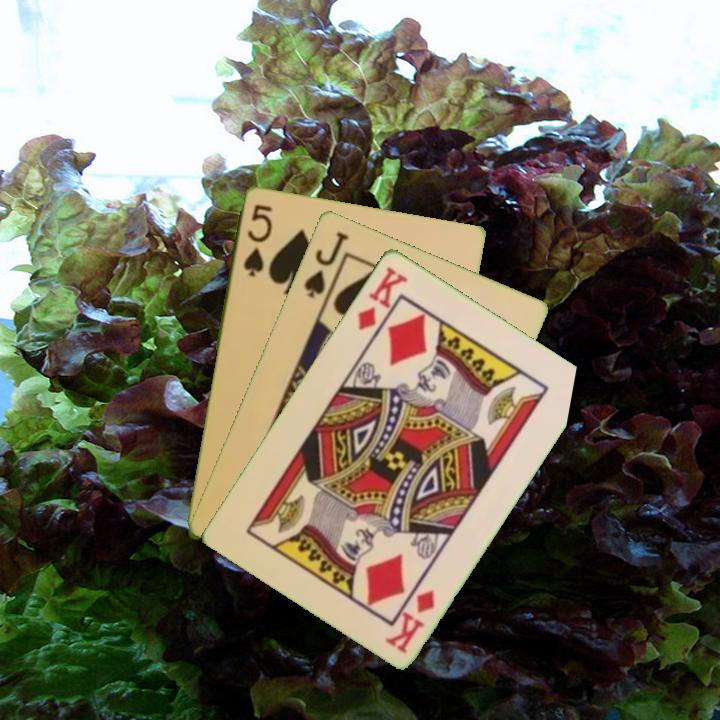5s: (239, 200, 276, 279)
Js: (300, 227, 352, 301)
Kd: (353, 262, 411, 333), (382, 585, 438, 656)
